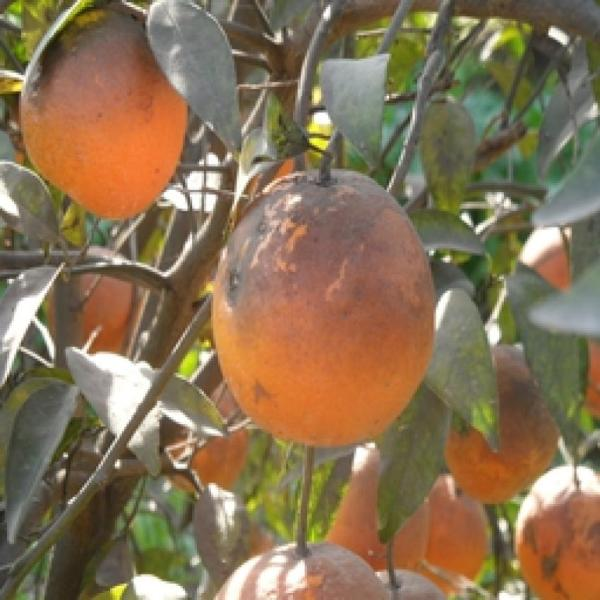Canker: (206, 162, 445, 452), (11, 1, 193, 227), (440, 328, 562, 509), (42, 241, 154, 371), (318, 449, 433, 570), (201, 536, 394, 599), (514, 461, 600, 597), (415, 474, 491, 594), (169, 400, 256, 499), (514, 224, 582, 317), (354, 565, 454, 598), (576, 323, 600, 426)
